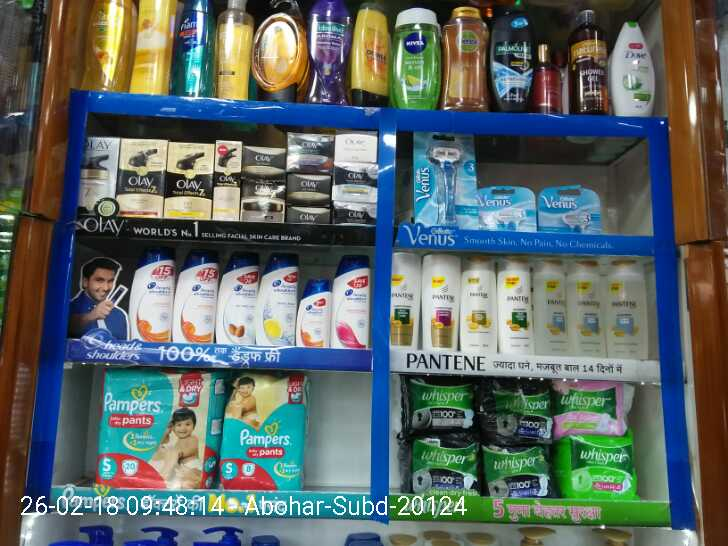venus: (414, 140, 473, 223), (483, 186, 540, 231), (540, 189, 601, 231)
